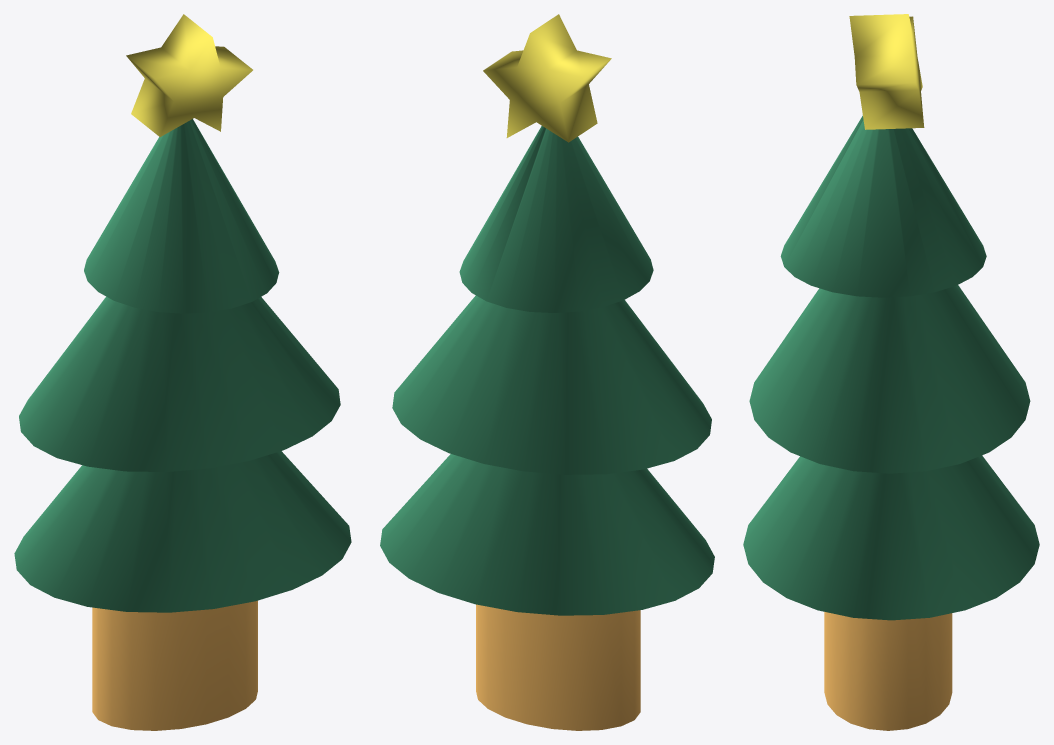
Rendered from tinker.glb.
3 renders of one model, left to right at view 1: azimuth 30°, elevation 25°; view 2: azimuth 150°, elevation 25°; view 3: azimuth 270°, elevation 25°, orthographic. The views are drawn at different scales.
Parts seen in each view (by area): view 1: obj_0.001; view 2: obj_0.001; view 3: obj_0.001.
Part boxes in pixels (x1,y1,x2,y2): obj_0.001: [14, 14, 351, 730]; obj_0.001: [380, 14, 714, 730]; obj_0.001: [743, 14, 1039, 730].
Size of the model in its own units: 115 by 243 by 95.
